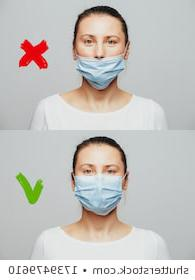mask_weared_incorrect: (78, 30, 123, 86)
with_mask: (75, 157, 122, 218)
